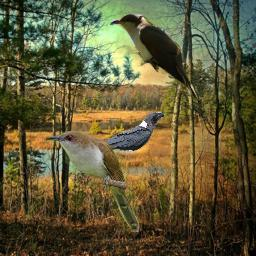Crow: (88, 112, 165, 154)
Cuckoo: (44, 131, 139, 232), (108, 14, 198, 103)
